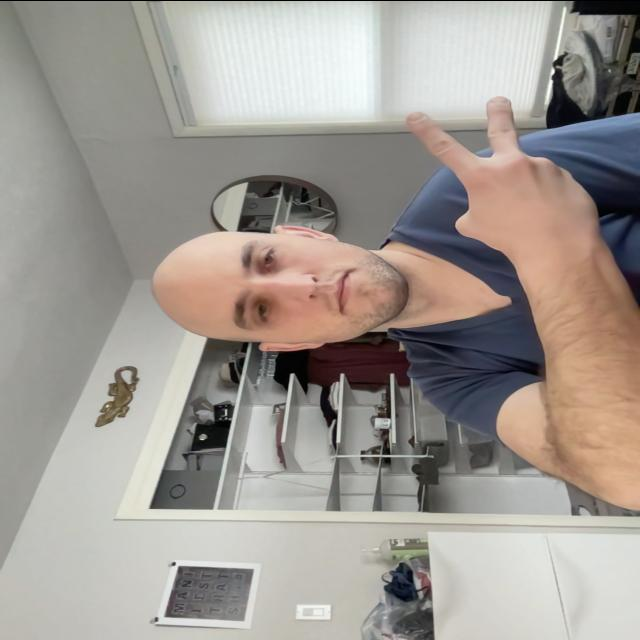Scissors: (399, 94, 611, 255)
